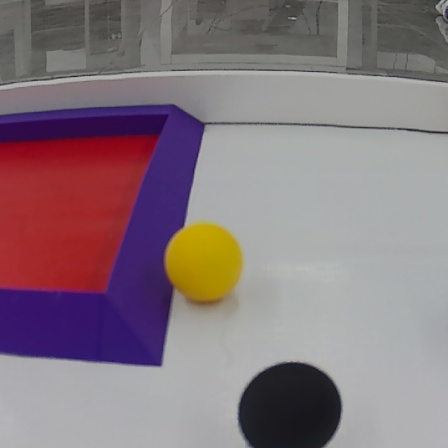black: (231, 358, 344, 447)
red_aim: (0, 100, 208, 370)
yellow: (163, 219, 245, 309)
